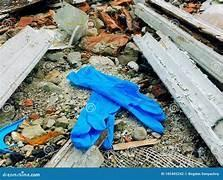Glove: (67, 66, 164, 133), (70, 92, 119, 148)
